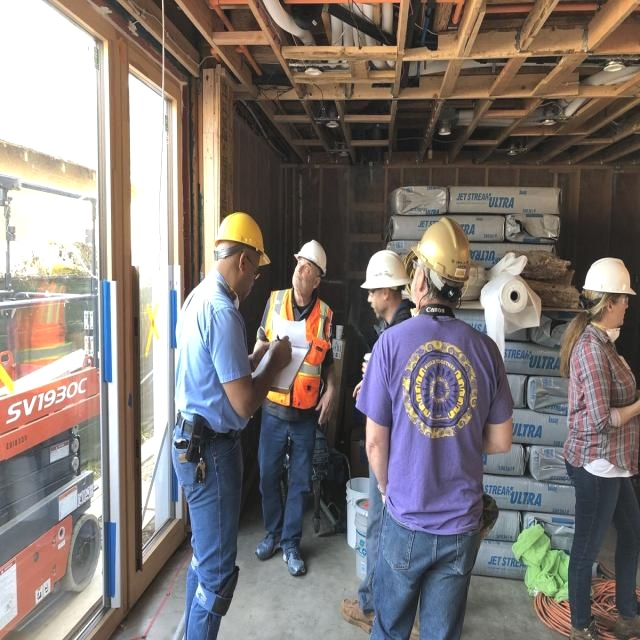Con_Casco: (213, 210, 270, 296), (578, 257, 636, 330)
Con_Chaleco: (266, 290, 331, 405)
Sin_Chaleco: (380, 319, 484, 529), (569, 335, 638, 465)
